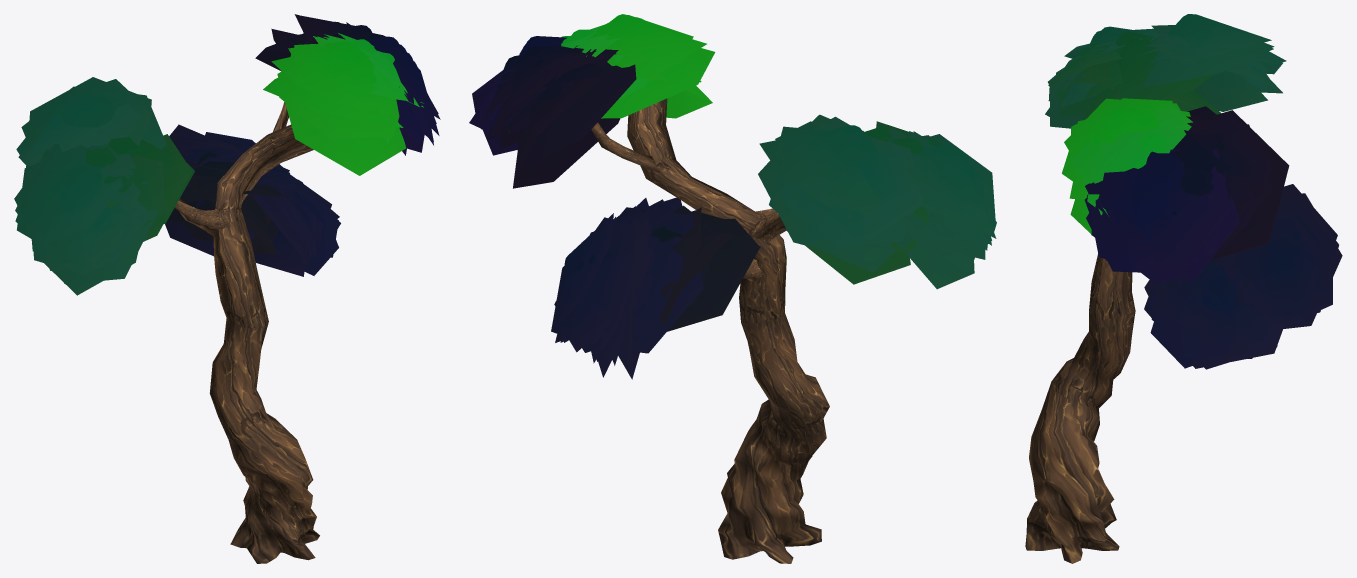
The model's file is FantasyTree10.fbx.
3 views of the same model, side by side, from view 1: azimuth 30°, elevation 25°; view 2: azimuth 150°, elevation 25°; view 3: azimuth 270°, elevation 25° (orthographic). The views are drawn at different scales.
Parts seen in each view (by area): view 1: fantasyleaf1_alpha_1, tree2_0; view 2: fantasyleaf1_alpha_1, tree2_0; view 3: fantasyleaf1_alpha_1, tree2_0.
Part boxes in pixels (x1,y1,x2,y2): fantasyleaf1_alpha_1: [14, 14, 440, 295]; tree2_0: [174, 102, 319, 563]; fantasyleaf1_alpha_1: [469, 14, 996, 379]; tree2_0: [591, 98, 829, 563]; fantasyleaf1_alpha_1: [1045, 14, 1342, 369]; tree2_0: [1025, 253, 1135, 563].
Size of the model in its own units: 692 by 698 by 419.
Materials: 1 (1 with a texture image).
